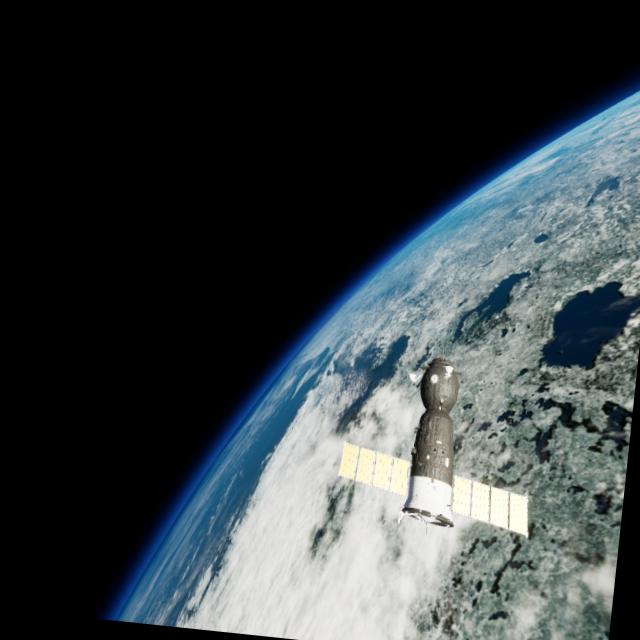Satellites revolving around earth: (111, 22, 640, 640), (331, 338, 549, 544)
